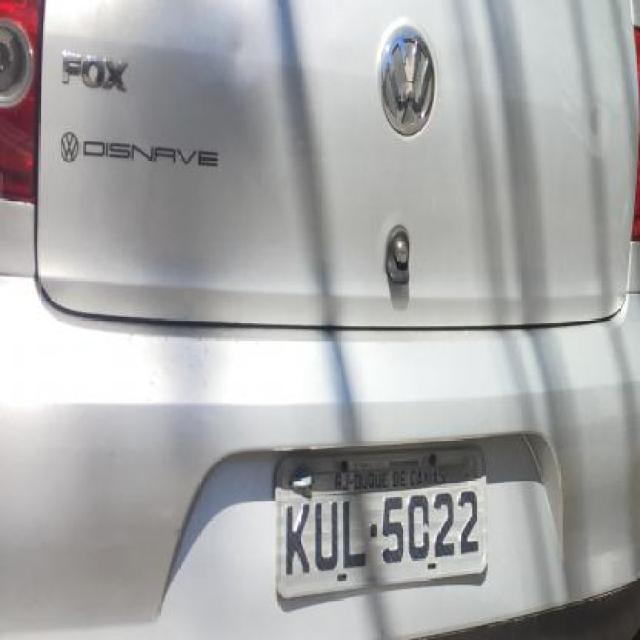old_plate: (268, 436, 494, 610)
